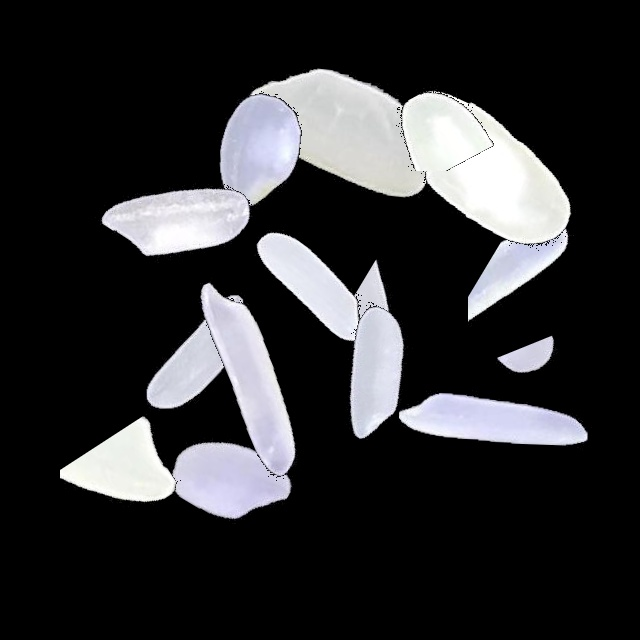Broken: (468, 188, 600, 438), (60, 379, 186, 629), (293, 241, 543, 355), (305, 65, 555, 171), (489, 267, 582, 517)
Full: (212, 6, 462, 256), (71, 225, 321, 475), (105, 357, 355, 607), (125, 250, 375, 500), (191, 160, 441, 410), (363, 44, 613, 294), (134, 23, 384, 273), (247, 250, 497, 500), (369, 295, 619, 545), (53, 91, 303, 341)
